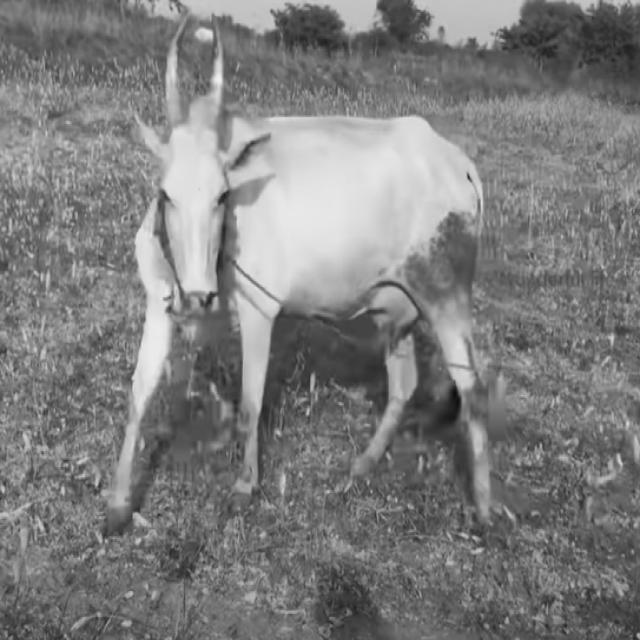Cow: (100, 13, 502, 541)
